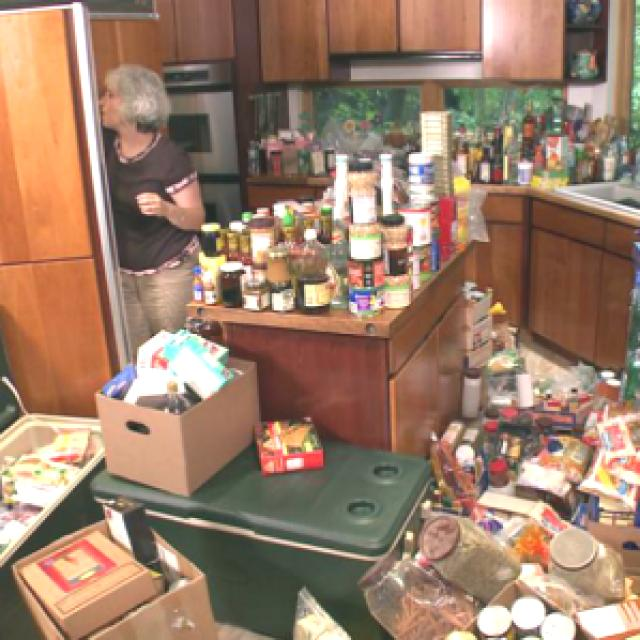mess: (104, 333, 376, 587), (439, 342, 640, 640), (212, 139, 456, 349), (248, 102, 640, 192)
